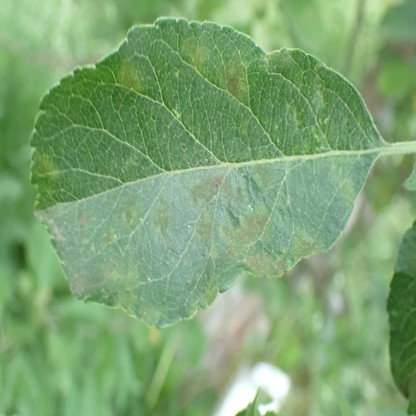scab: (38, 41, 356, 326)
